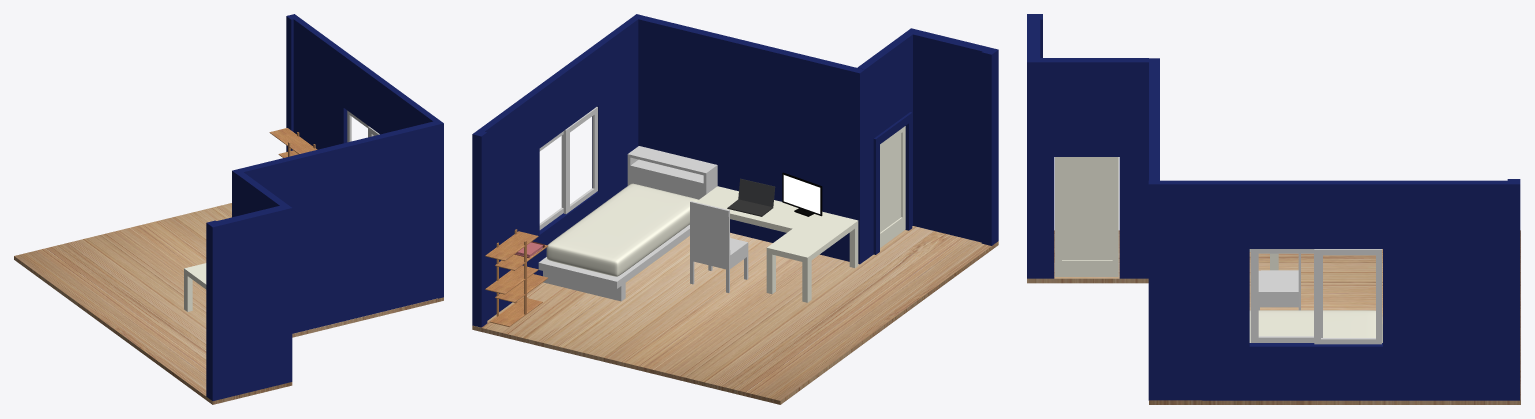
File: kamar.glb
The picture shows the model from 3 angles, left to right: view 1: azimuth 30°, elevation 25°; view 2: azimuth 150°, elevation 25°; view 3: azimuth 270°, elevation 25°; orthographic projection. The views are drawn at different scales.
Parts seen in each view (by area): view 1: Tembok 2, Lantai, Tembok 3, Tembok 1, lemari kecil.002, Meja; view 2: Lantai, Tembok 2, Tembok 3, Tembok 1, Busa Kasur, Kasur, Meja, lemari kecil.002, kursi.002, Pintu, Jendela 2, Monitor 2 (+2 smaller); view 3: Tembok 1, Tembok 3, Pintu, Lantai, Busa Kasur, Jendela 1, Jendela 2, kursi.002, Tembok 2.
Part boxes in pixels (box(x1,y1,x2,y2)): Tembok 2: box(232, 121, 437, 333); Lantai: box(14, 203, 443, 404); Tembok 3: box(206, 172, 292, 400); Tembok 1: box(286, 14, 443, 298); lemari kecil.002: box(269, 128, 317, 157); Meja: box(184, 263, 206, 311); Lantai: box(472, 226, 998, 404); Tembok 2: box(638, 15, 864, 264); Tembok 3: box(857, 28, 998, 260); Tembok 1: box(472, 14, 642, 327); Busa Kasur: box(546, 183, 698, 276); Kasur: box(538, 146, 717, 301); Meja: box(696, 186, 858, 302); lemari kecil.002: box(485, 229, 547, 326); kursi.002: box(690, 201, 748, 292); Pintu: box(880, 126, 905, 247); Jendela 2: box(563, 107, 597, 213); Monitor 2: box(782, 172, 822, 216); Tembok 1: box(1148, 179, 1520, 400); Tembok 3: box(1027, 14, 1148, 278); Pintu: box(1055, 157, 1118, 276); Lantai: box(1027, 230, 1520, 404); Busa Kasur: box(1249, 310, 1382, 342); Jendela 1: box(1314, 249, 1381, 344); Jendela 2: box(1250, 249, 1322, 342); kursi.002: box(1258, 253, 1300, 310); Tembok 2: box(1149, 58, 1159, 180).
Size of the model in its own units: 38.94 by 23.57 by 47.76.
15 materials, 2 textured.
